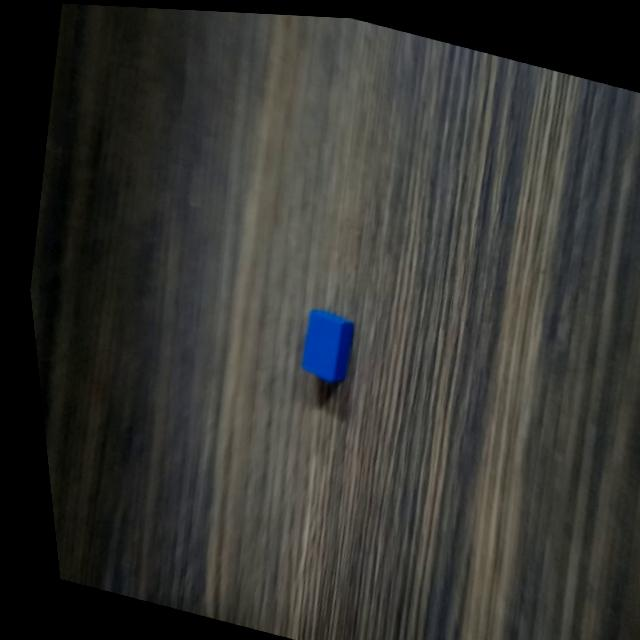cube: (282, 297, 356, 389)
